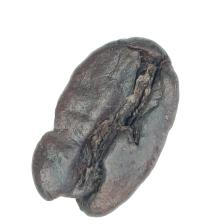NG: (87, 36, 176, 150), (36, 108, 124, 216)
